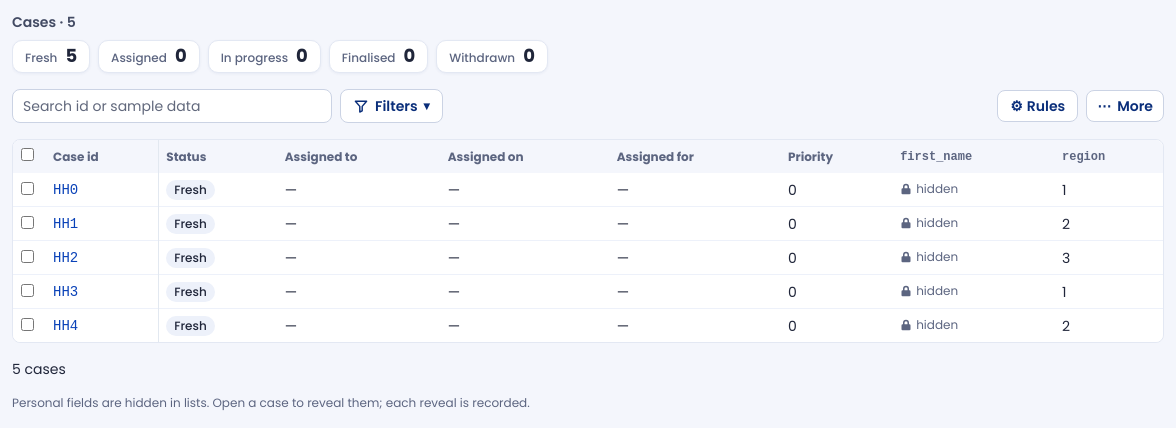
quick filters and goals › filter cases not tried yet; the deadline ones need a case deadline
Later steps or results of the test are not shown.
The filters are in a panel behind the Filters button.
Click the button "Filters ▾" at (391, 106), box [340,89,443,123]
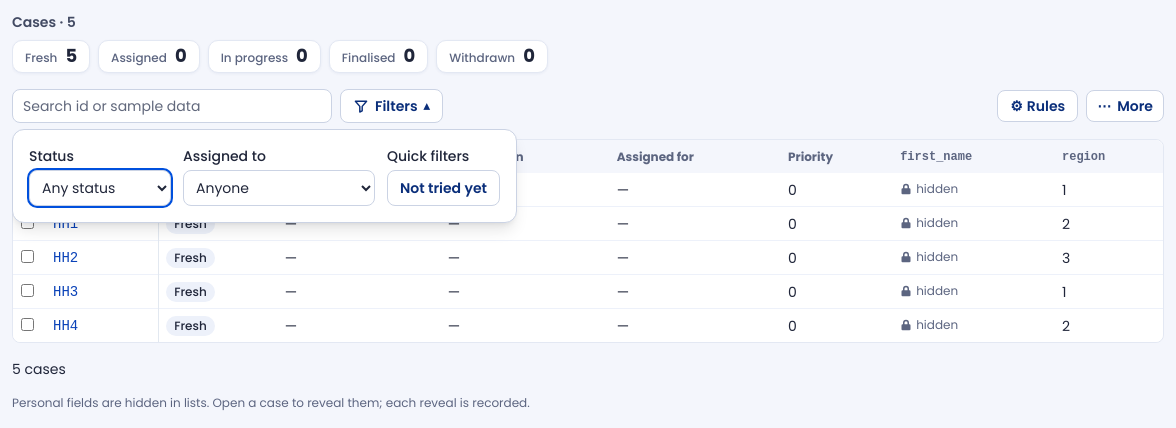
Click the button "Not tried yet" at (444, 188), box [387,170,500,206]
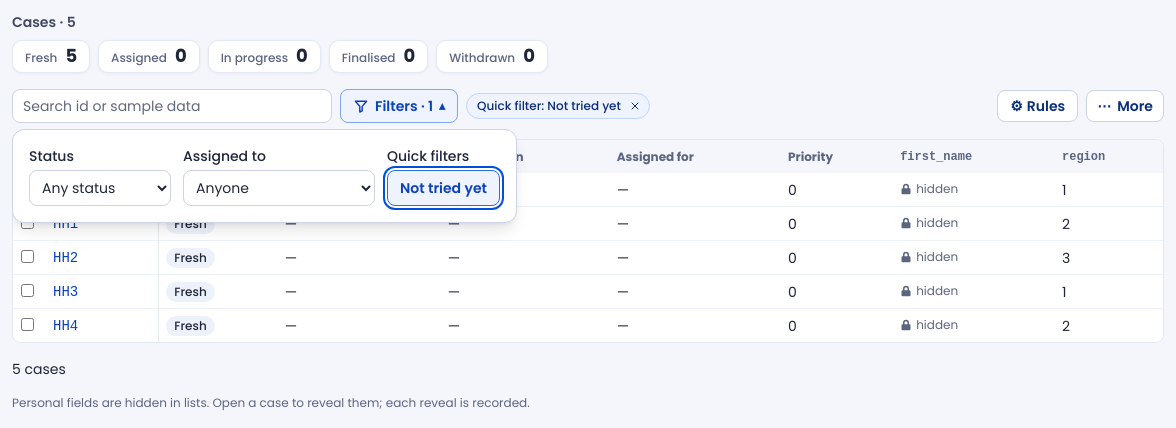
Expected: the button "Not tried yet" is pressed, [387,170,500,206]
